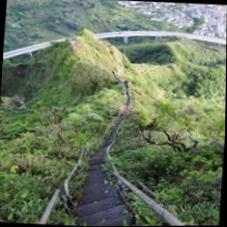Animal: (65, 175, 138, 224)
